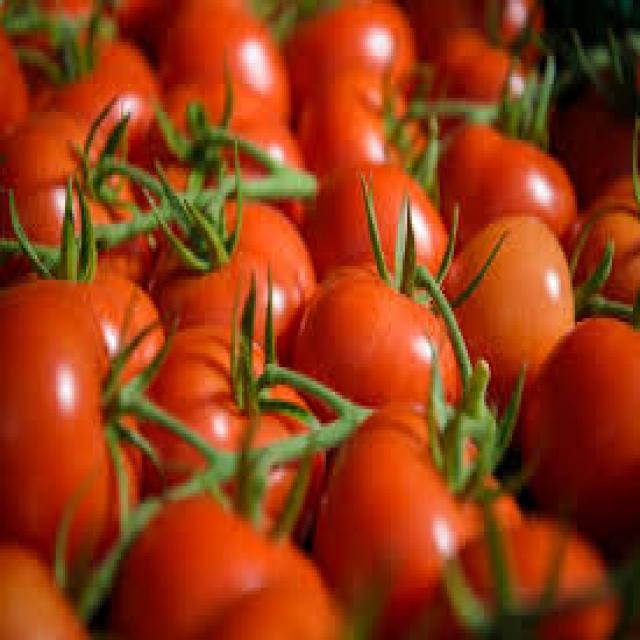organic waste: (0, 0, 638, 637), (0, 172, 163, 588), (128, 269, 326, 553), (288, 168, 502, 430), (307, 388, 517, 623), (112, 479, 379, 637), (440, 206, 633, 410), (510, 301, 638, 574), (128, 49, 305, 241), (433, 46, 577, 256), (412, 511, 631, 636), (0, 104, 151, 276), (144, 185, 314, 332), (104, 0, 288, 129), (14, 7, 161, 150), (0, 486, 116, 636), (549, 14, 638, 199), (424, 0, 544, 133), (274, 0, 416, 98), (293, 74, 426, 178), (204, 570, 388, 637), (563, 178, 638, 326), (0, 0, 30, 129)
